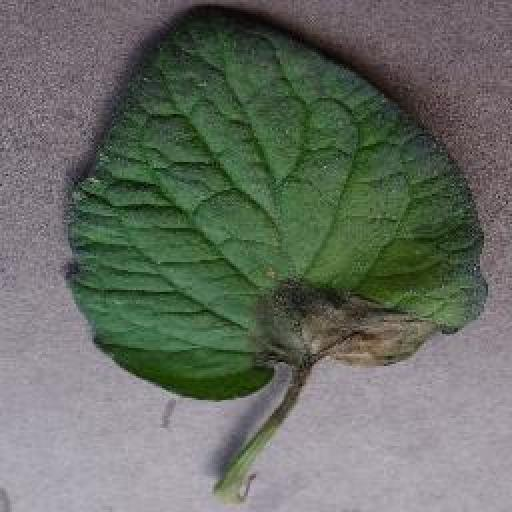disease_tomato: (61, 5, 492, 404)
